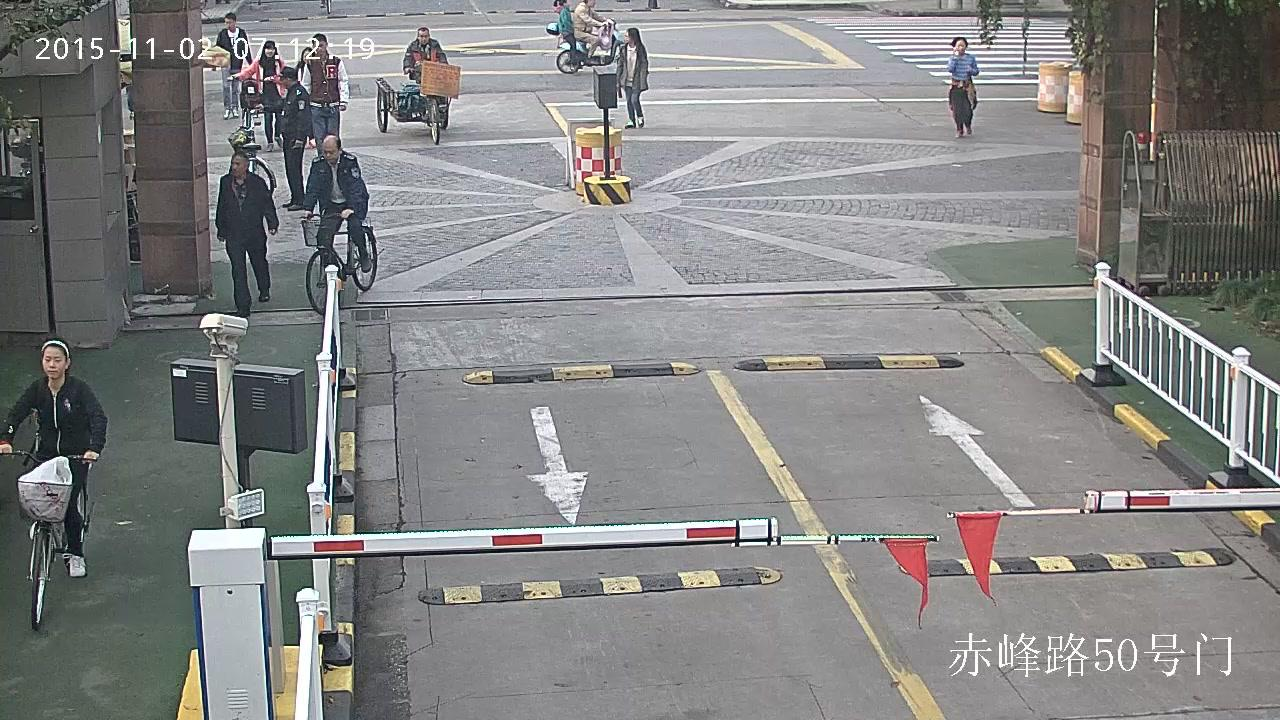person: (0, 334, 107, 632), (0, 334, 108, 578), (298, 133, 384, 318), (214, 152, 278, 318), (303, 135, 371, 287), (391, 26, 460, 146), (231, 39, 287, 153), (302, 33, 350, 161), (233, 40, 287, 153), (544, 0, 625, 74), (277, 66, 313, 211), (211, 11, 253, 119), (402, 26, 451, 114), (945, 36, 979, 137), (615, 28, 648, 129), (572, 0, 612, 59), (552, 0, 580, 65)
